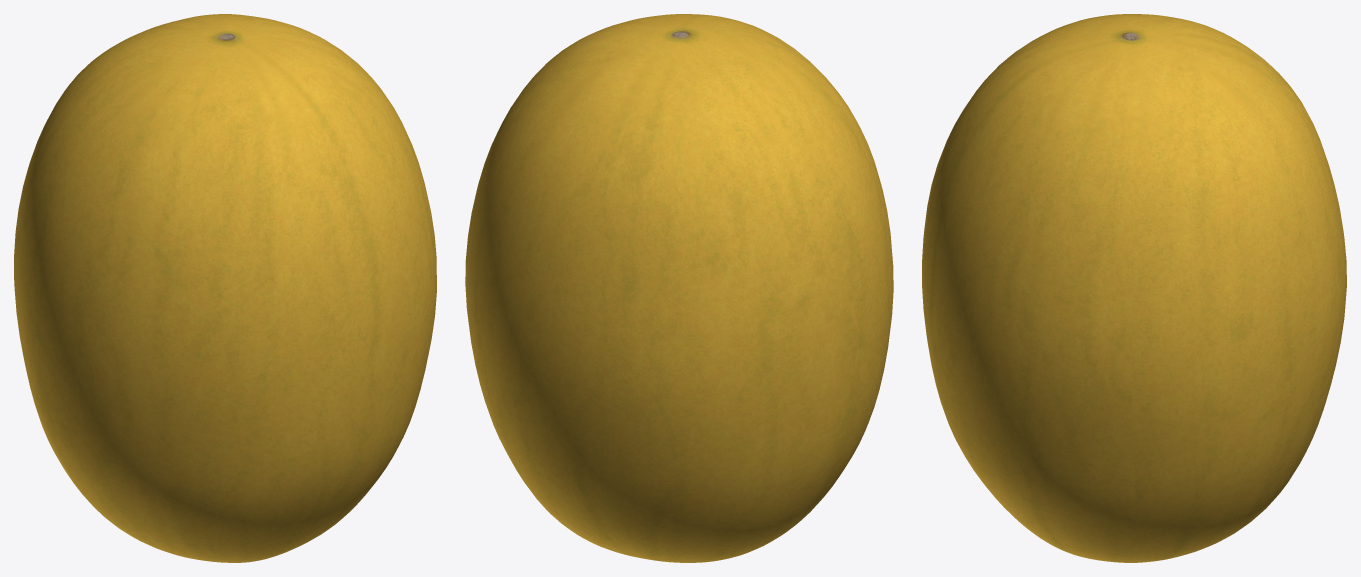
Rendered from melon.obj.
3 renders of one model, left to right at view 1: azimuth 30°, elevation 25°; view 2: azimuth 150°, elevation 25°; view 3: azimuth 270°, elevation 25°, orthographic.
Visible parts, largest first — view 1: Fruit; view 2: Fruit; view 3: Fruit.
Boxes of the visible parts, bbox=[...] form: Fruit: bbox=[14, 14, 436, 562]; Fruit: bbox=[465, 14, 893, 562]; Fruit: bbox=[922, 14, 1346, 562].
Size of the model in its own units: 19.08 by 25.32 by 19.08.
1 material, 1 textured.
